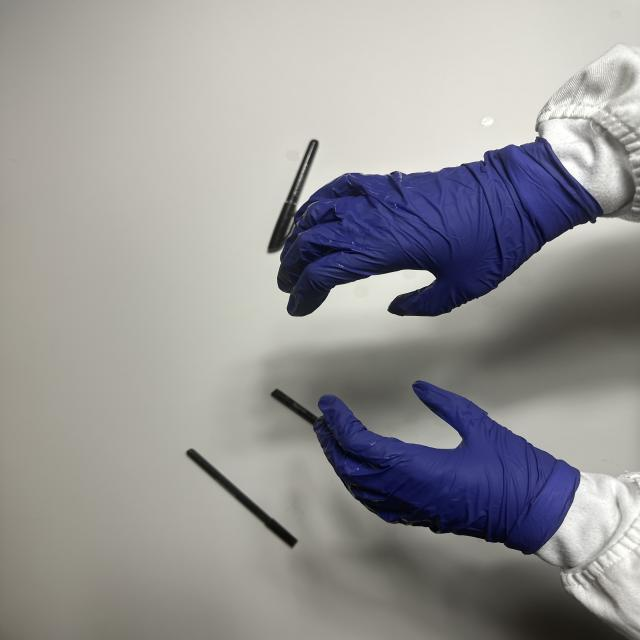gloves_contaminated: (278, 142, 600, 316), (314, 381, 579, 554)
